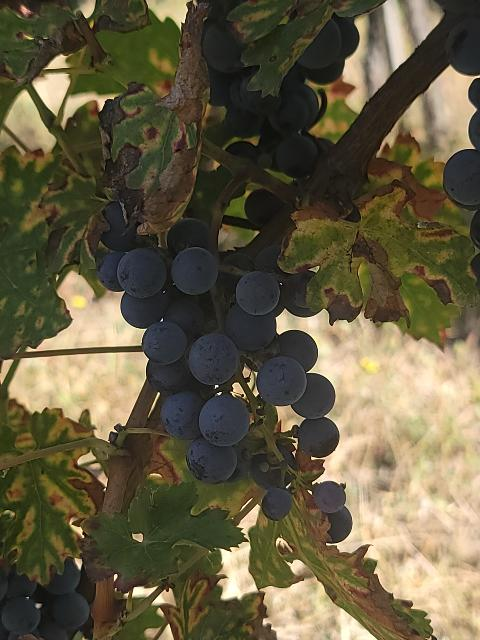grapes: (99, 204, 340, 484)
